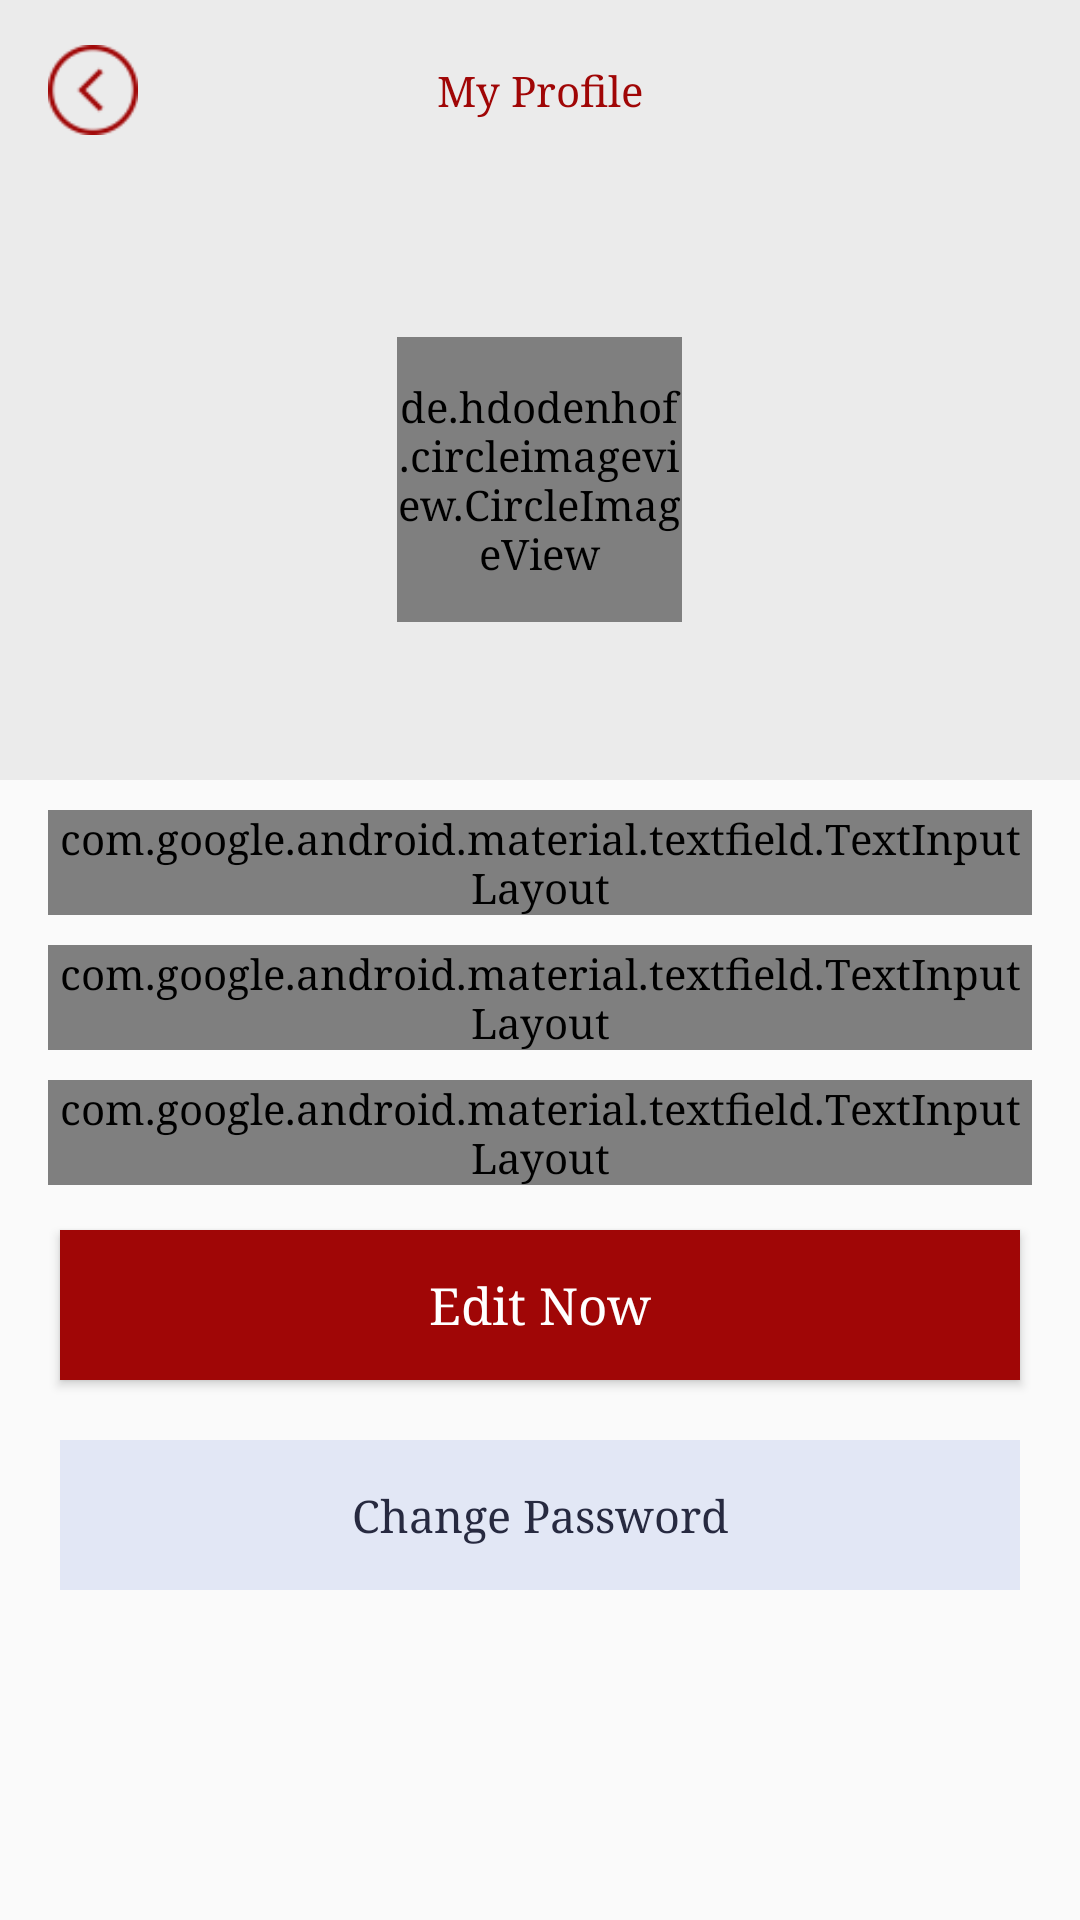

Point at icon controls on the screen. Image size 1080x1920, points as [x,y].
arrwo: [93,90]
